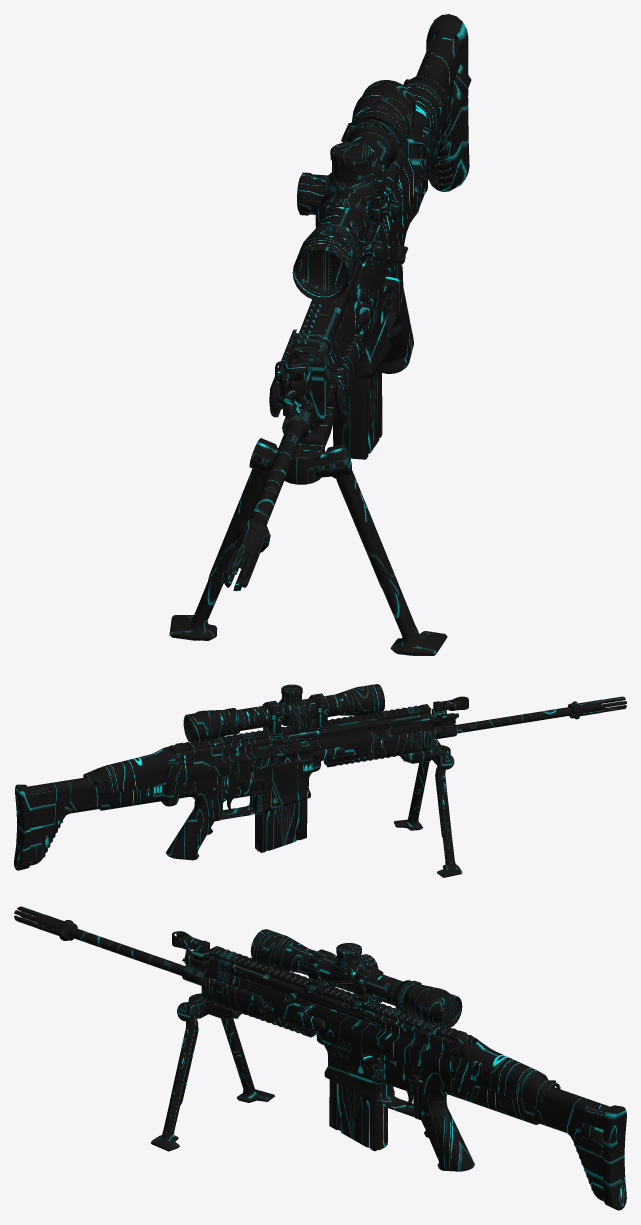
The model's file is UnitySniperTen.fbx.
3 renders of one model, top to bottom at view 1: azimuth 30°, elevation 25°; view 2: azimuth 150°, elevation 25°; view 3: azimuth 270°, elevation 25°, orthographic. The views are drawn at different scales.
Parts seen in each view (by area): view 1: Mesh; view 2: Mesh; view 3: Mesh.
Boxes of the visible parts, <box> form: Mesh: <box>169,14,471,655</box>; Mesh: <box>14,684,626,877</box>; Mesh: <box>14,906,626,1210</box>.
Size of the model in its own units: 10.34 by 4.95 by 12.43.
